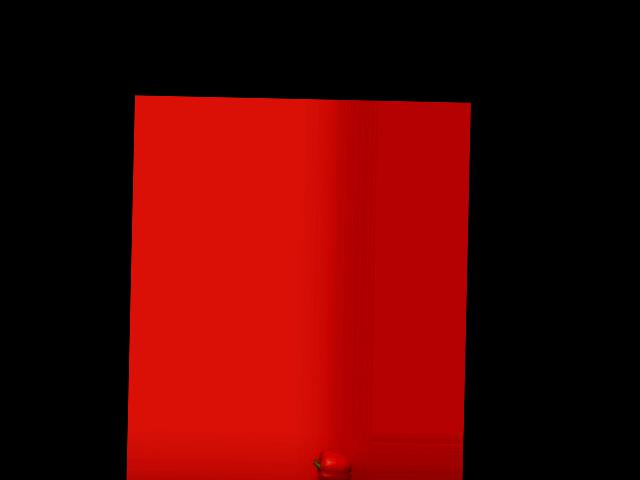bell_pepper: (311, 451, 354, 480)
